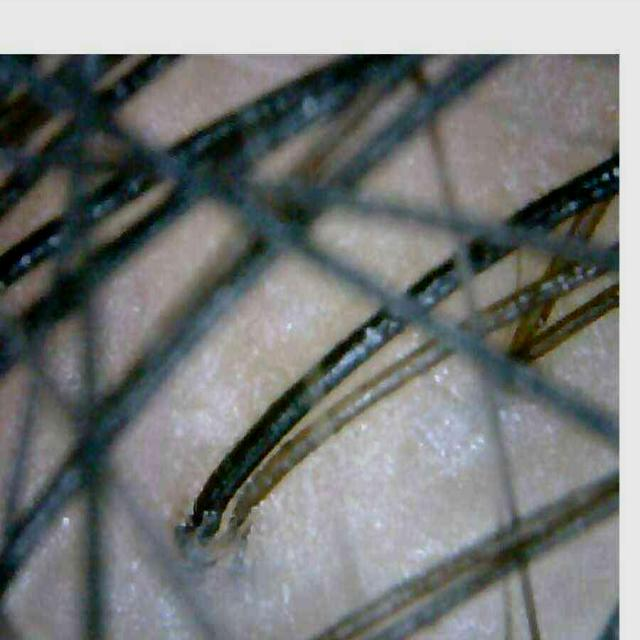o: (404, 394, 489, 484), (109, 546, 189, 636)
